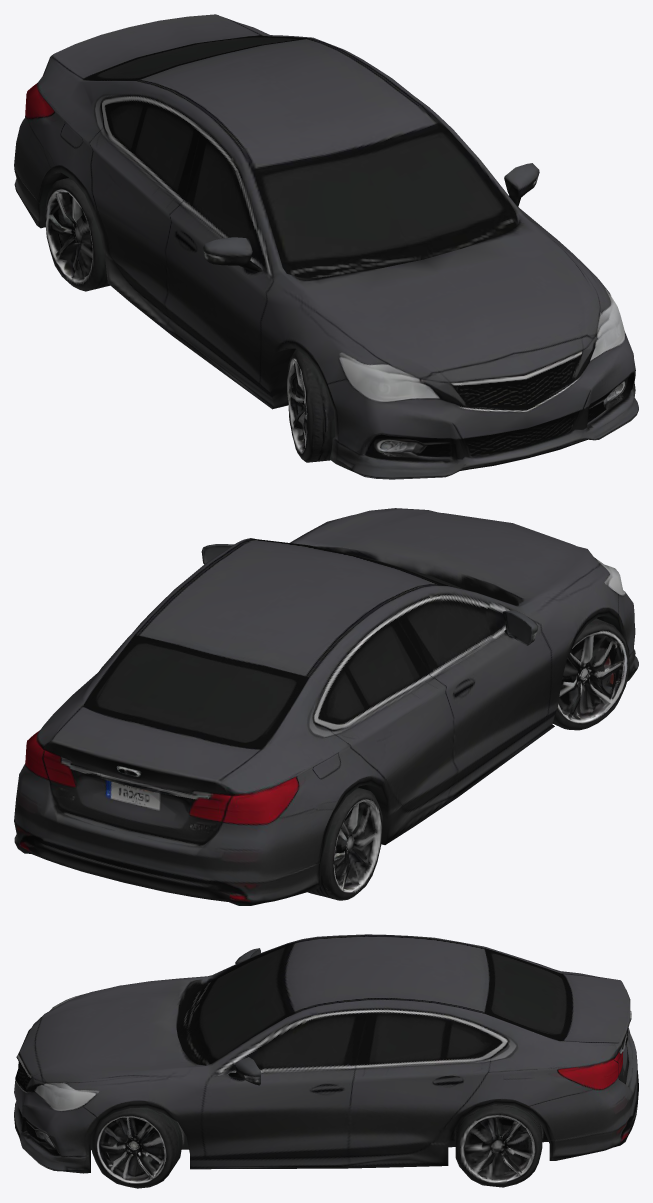
Rendered from selected.glb.
3 views of the same model, one above another, from view 1: azimuth 30°, elevation 25°; view 2: azimuth 150°, elevation 25°; view 3: azimuth 270°, elevation 25° (orthographic). The views are drawn at different scales.
Parts seen in each view (by area): view 1: tripo_node_c2f3153c-1d2e-464e-ba73-a36fa8523394; view 2: tripo_node_c2f3153c-1d2e-464e-ba73-a36fa8523394; view 3: tripo_node_c2f3153c-1d2e-464e-ba73-a36fa8523394.
Boxes of the visible parts, left/top/right/bottom form: tripo_node_c2f3153c-1d2e-464e-ba73-a36fa8523394: left=14, top=14, right=638, bottom=479; tripo_node_c2f3153c-1d2e-464e-ba73-a36fa8523394: left=14, top=508, right=638, bottom=905; tripo_node_c2f3153c-1d2e-464e-ba73-a36fa8523394: left=14, top=934, right=638, bottom=1188.
Size of the model in its own units: 0.4746 by 0.2988 by 0.998.
1 material, 1 textured.
